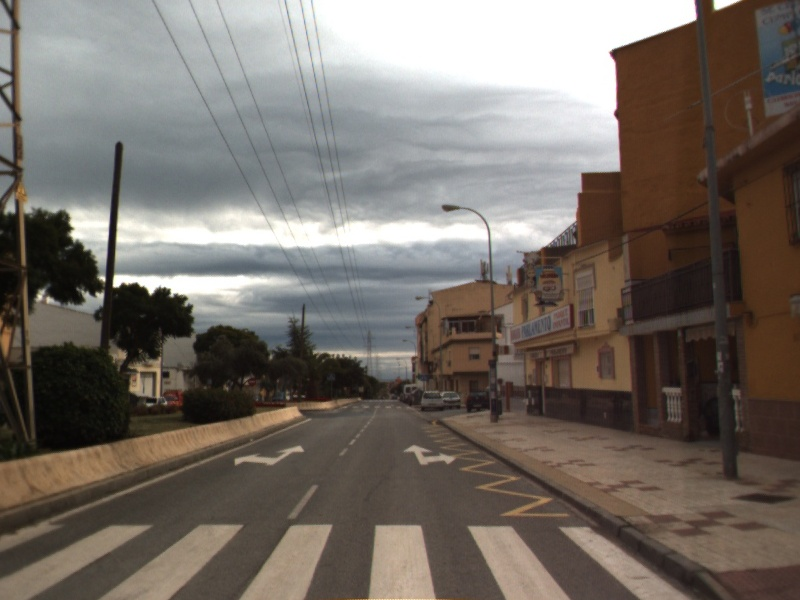STRAIGHT_LEFT: (232, 443, 307, 468)
STRAIGHT_RIGHT: (402, 442, 459, 467)
